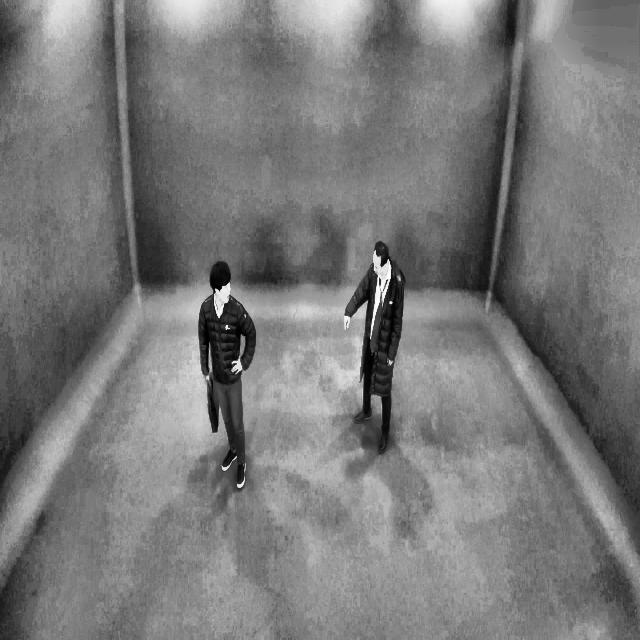assult: (182, 244, 404, 485)
